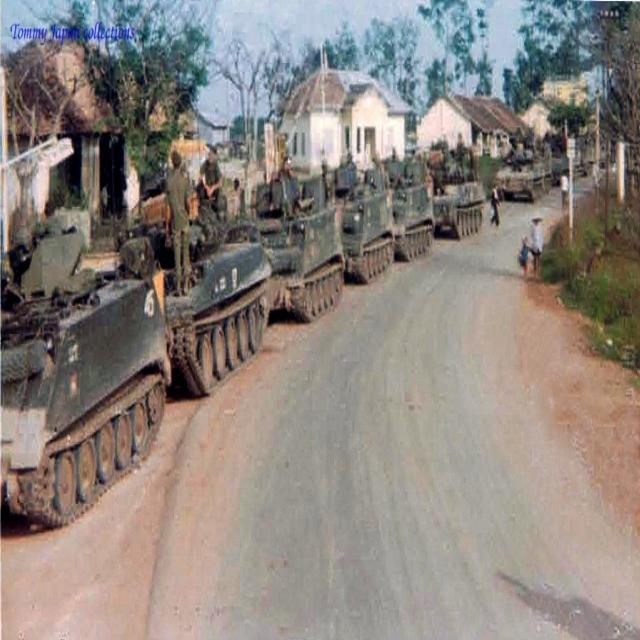tank: (0, 216, 171, 534), (118, 191, 274, 393), (239, 152, 345, 316), (332, 153, 396, 280), (428, 136, 484, 236), (383, 152, 434, 260), (492, 140, 551, 202)
